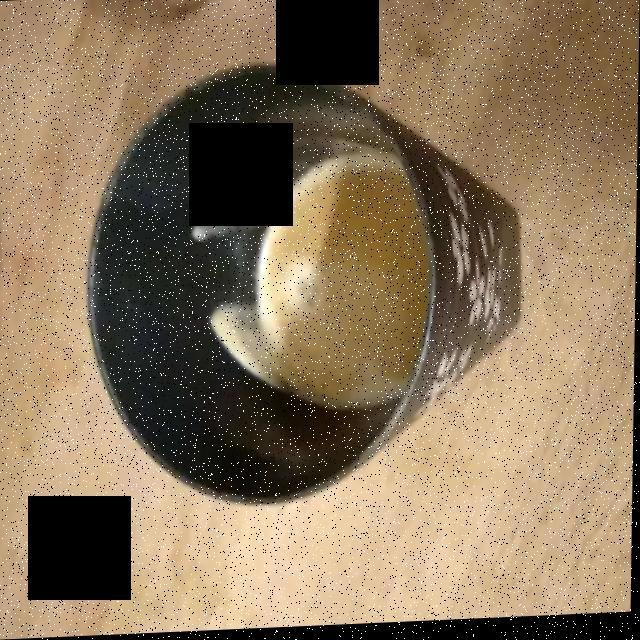coffee: (213, 154, 426, 407)
